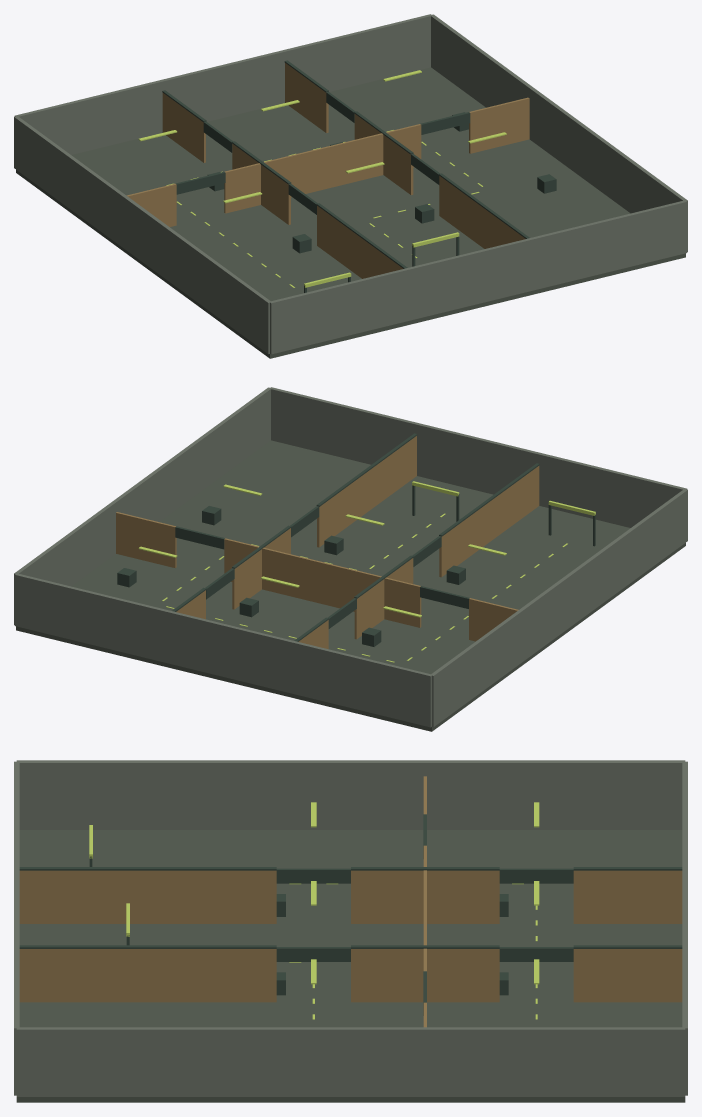
The model's file is qualification.glb.
3 renders of one model, top to bottom at view 1: azimuth 30°, elevation 25°; view 2: azimuth 150°, elevation 25°; view 3: azimuth 270°, elevation 25°, orthographic. The views are drawn at different scales.
Visible parts, largest first — view 1: outer_wall (×4), floor, partition (×6), cross_wall (×3), door_header (×2); view 2: outer_wall (×4), floor, partition (×4), cross_wall (×3), door_header (×2); view 3: outer_wall (×4), floor, partition (×6), door_header (×4), partition_cap (×4).
Part boxes in pixels (x1=…): outer_wall (×4): x1=14, y1=14, x2=687, y2=354; floor: x1=16, y1=67, x2=685, y2=358; partition (×6): x1=162, y1=63, x2=525, y2=278; cross_wall (×3): x1=126, y1=97, x2=529, y2=226; door_header (×2): x1=175, y1=112, x2=470, y2=194; outer_wall (×4): x1=14, y1=387, x2=687, y2=727; floor: x1=16, y1=440, x2=685, y2=731; partition (×4): x1=232, y1=436, x2=539, y2=639; cross_wall (×3): x1=116, y1=512, x2=518, y2=641; door_header (×2): x1=175, y1=526, x2=469, y2=608; outer_wall (×4): x1=14, y1=760, x2=687, y2=1096; floor: x1=16, y1=830, x2=685, y2=1102; partition (×6): x1=19, y1=870, x2=682, y2=1002; door_header (×4): x1=276, y1=868, x2=573, y2=961; partition_cap (×4): x1=19, y1=867, x2=499, y2=948.
Bounding box in the file's own units: 34.3 × 4.54 × 36.3.
